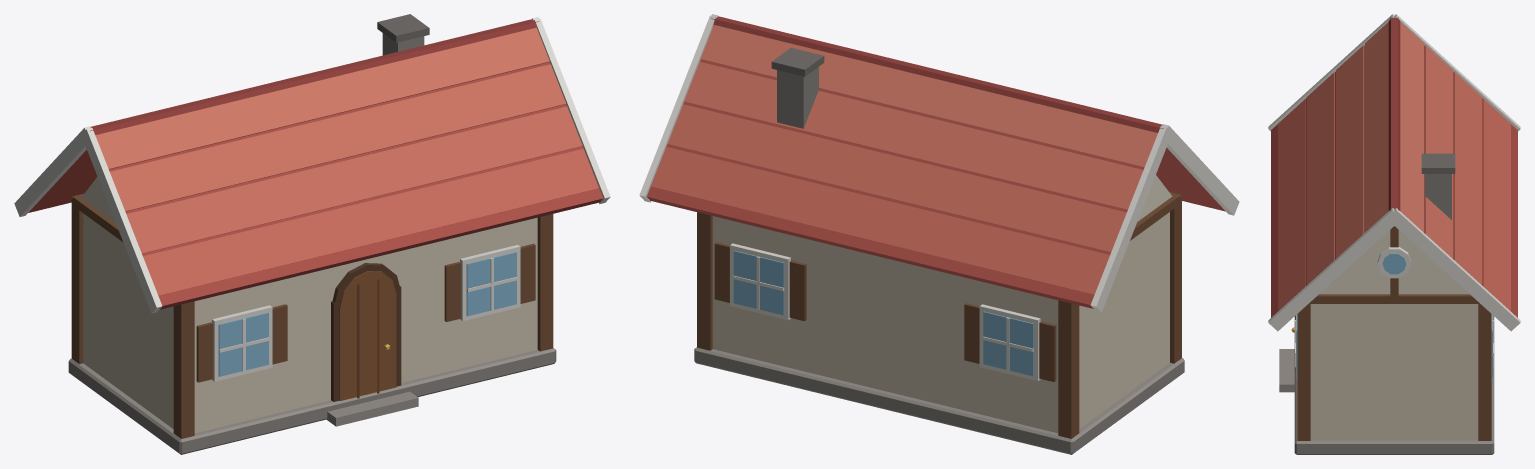
The model's file is plot_building.fbx.
3 renders of one model, left to right at view 1: azimuth 30°, elevation 25°; view 2: azimuth 150°, elevation 25°; view 3: azimuth 270°, elevation 25°, orthographic. The views are drawn at different scales.
Visible parts, largest first — view 1: plot_building; view 2: plot_building; view 3: plot_building.
Boxes of the visible parts, left/top/right/bottom form: plot_building: left=14, top=14, right=610, bottom=454; plot_building: left=639, top=14, right=1239, bottom=454; plot_building: left=1268, top=14, right=1520, bottom=454.
Size of the model in its own units: 27.45 by 17.2 by 14.92.
